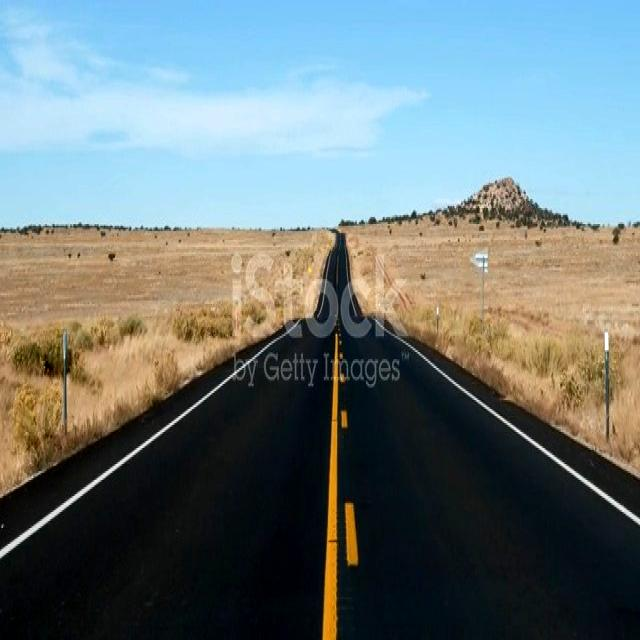road: (0, 233, 639, 636)
